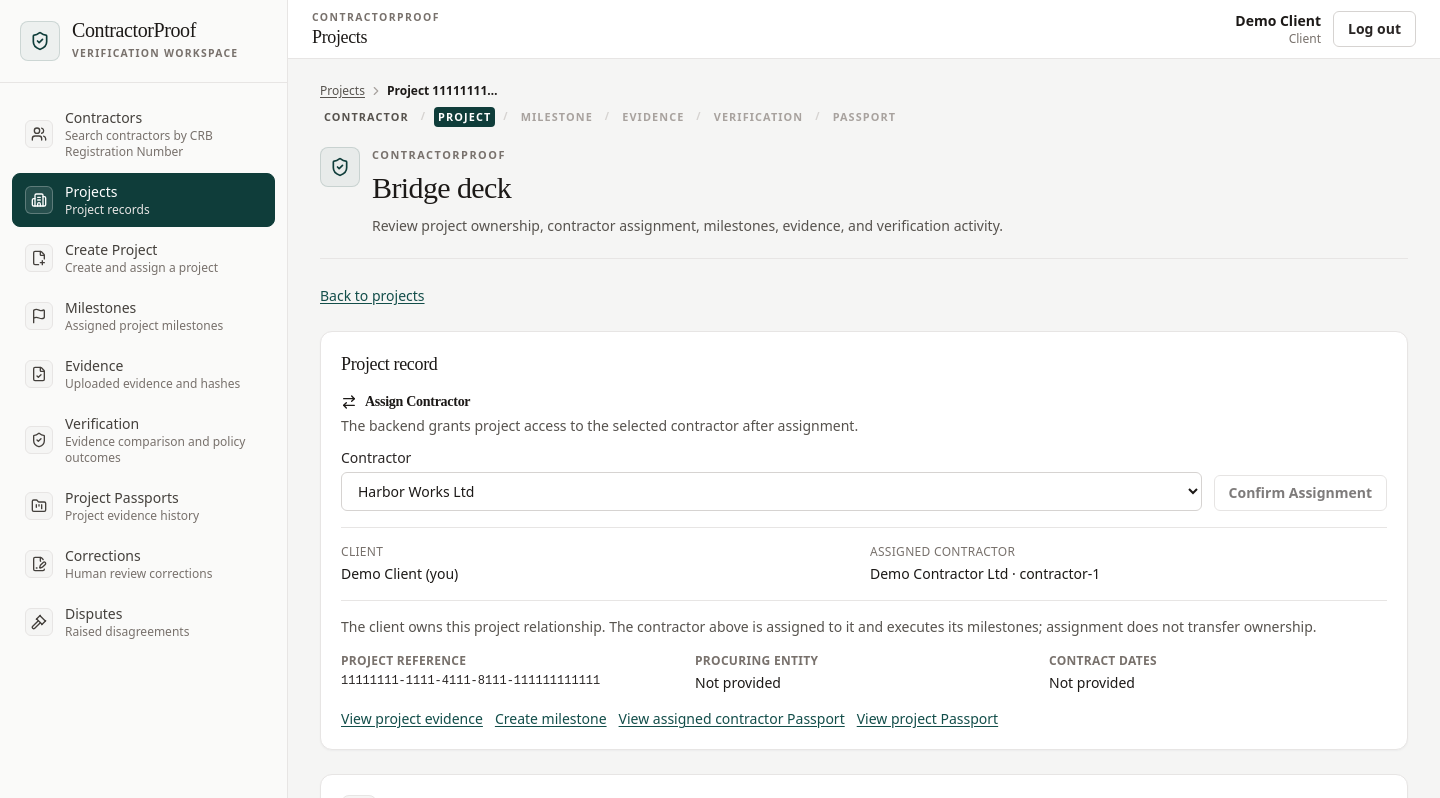
Scenario: projects › lets a client reassign a project contractor and refreshes from the backend result
Select "Replacement Contractor Ltd" in the dropdown labelled "Contractor". click: coordinates (771, 492)
box: top-left (341, 472), bottom-right (1202, 512)
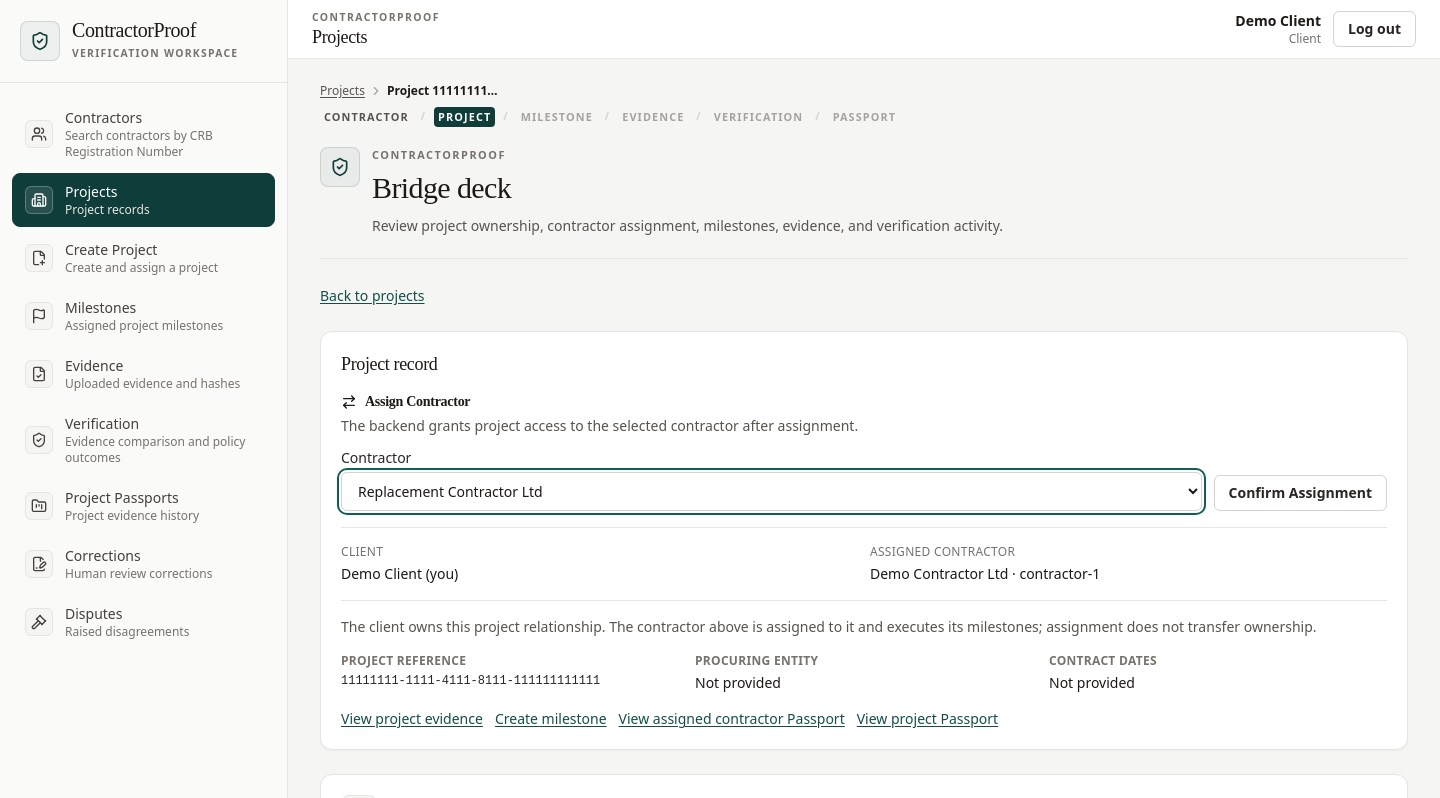
Click the button "Confirm Assignment". click: coordinates (1300, 494)
box: top-left (1214, 476), bottom-right (1387, 512)
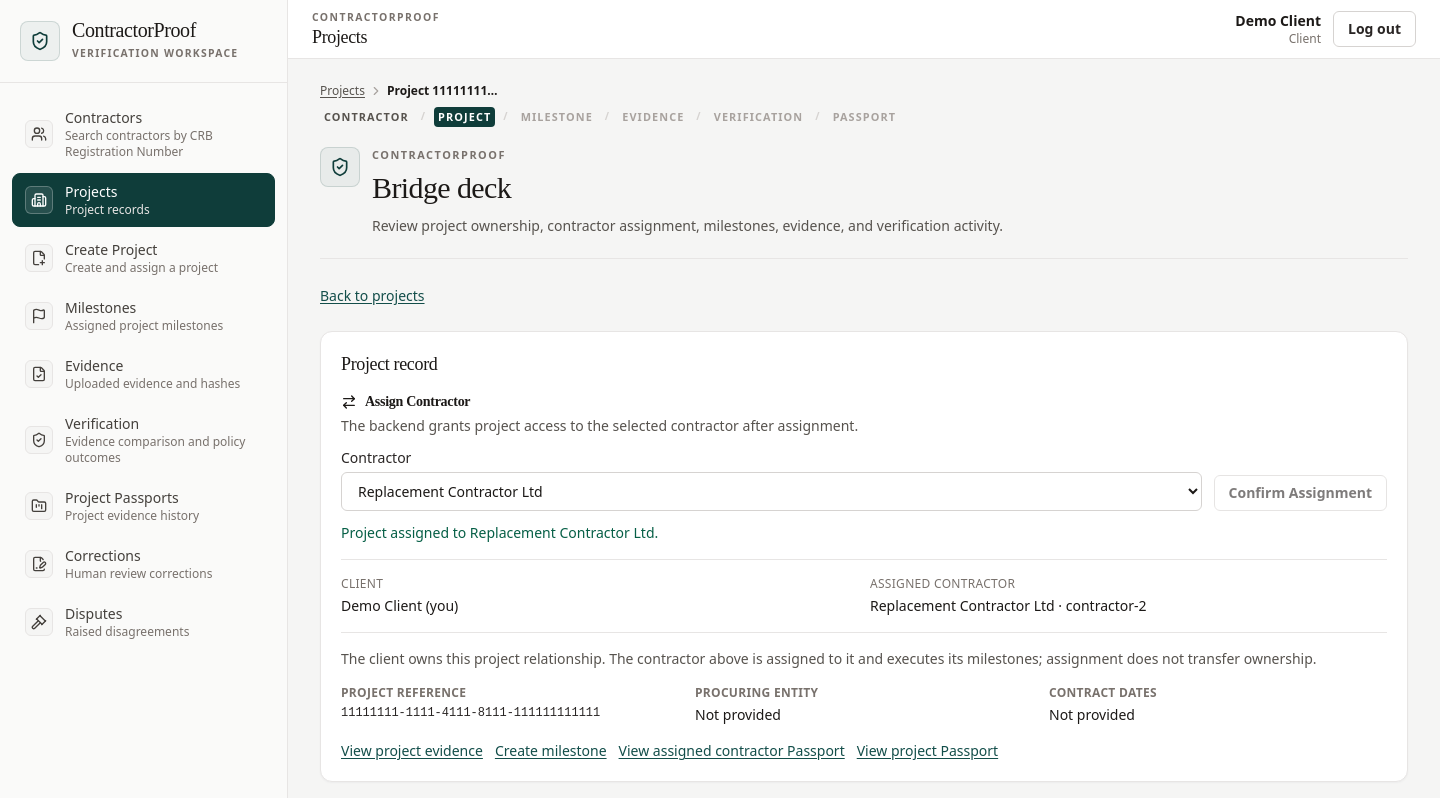
Expected: the text "Project assigned to Replacement Contractor Ltd." is shown, top-left (341, 524), bottom-right (658, 542)
Expected: the text "Replacement Contractor Ltd · contractor-2" is shown, top-left (870, 596), bottom-right (1146, 616)
